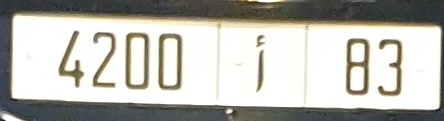0: (124, 30, 151, 91), (157, 31, 183, 91)
2: (90, 31, 117, 87)
3: (378, 38, 403, 97)
4: (57, 29, 86, 87)
8: (346, 37, 370, 95)
a: (253, 33, 267, 92)
